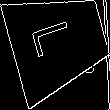L_E: (33, 20, 84, 65)
